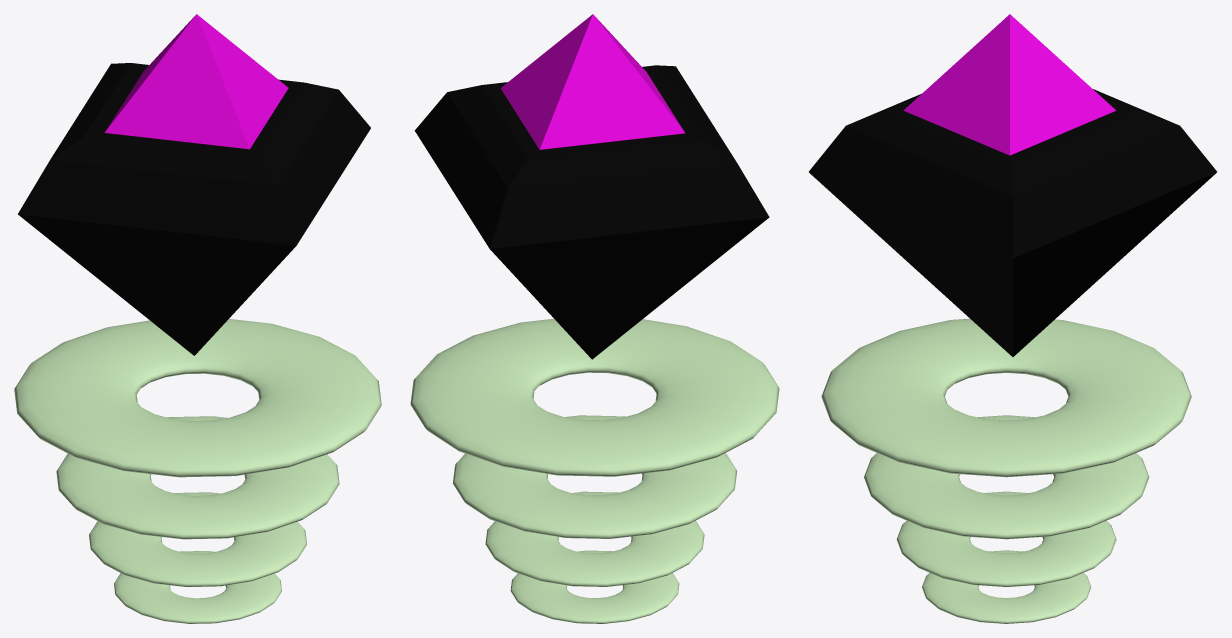
File: prop_crystalpowerup_charlize.fbx
3 renders of one model, left to right at view 1: azimuth 30°, elevation 25°; view 2: azimuth 150°, elevation 25°; view 3: azimuth 270°, elevation 25°, orthographic.
Parts seen in each view (by area): view 1: pPyramid4; view 2: pPyramid4; view 3: pPyramid4.
Part boxes in pixels (left/top/right/bottom): pPyramid4: left=14, top=14, right=381, bottom=623; pPyramid4: left=410, top=14, right=779, bottom=623; pPyramid4: left=809, top=14, right=1216, bottom=623.
Size of the model in its own units: 1.06 by 1.65 by 1.06.
